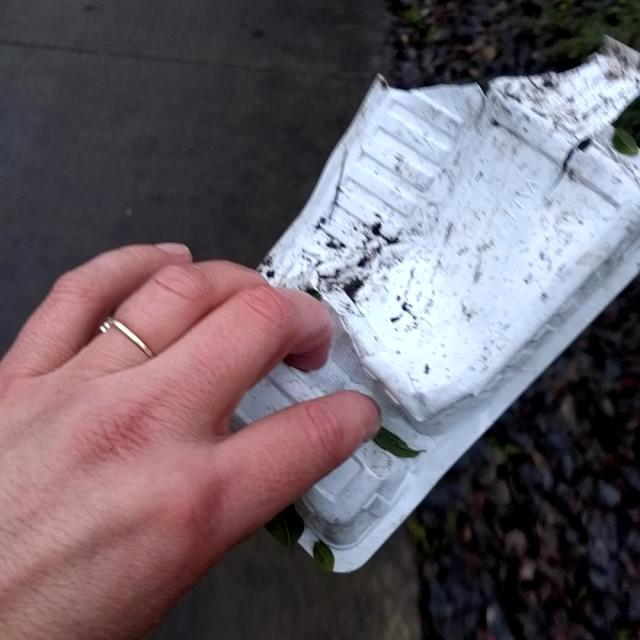Plastic: (217, 29, 639, 576)
